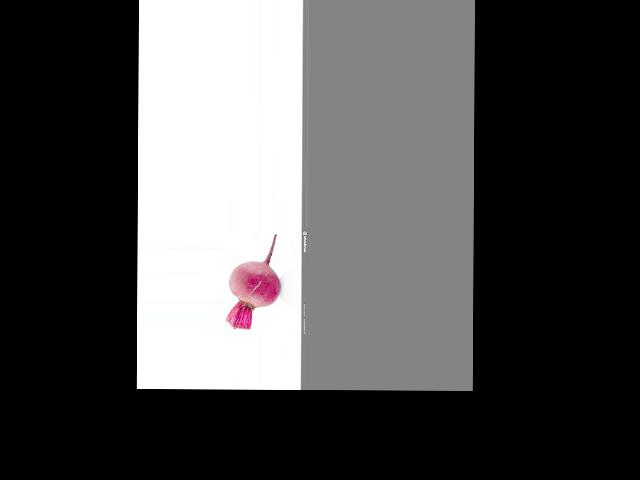beet: (226, 234, 280, 330)
